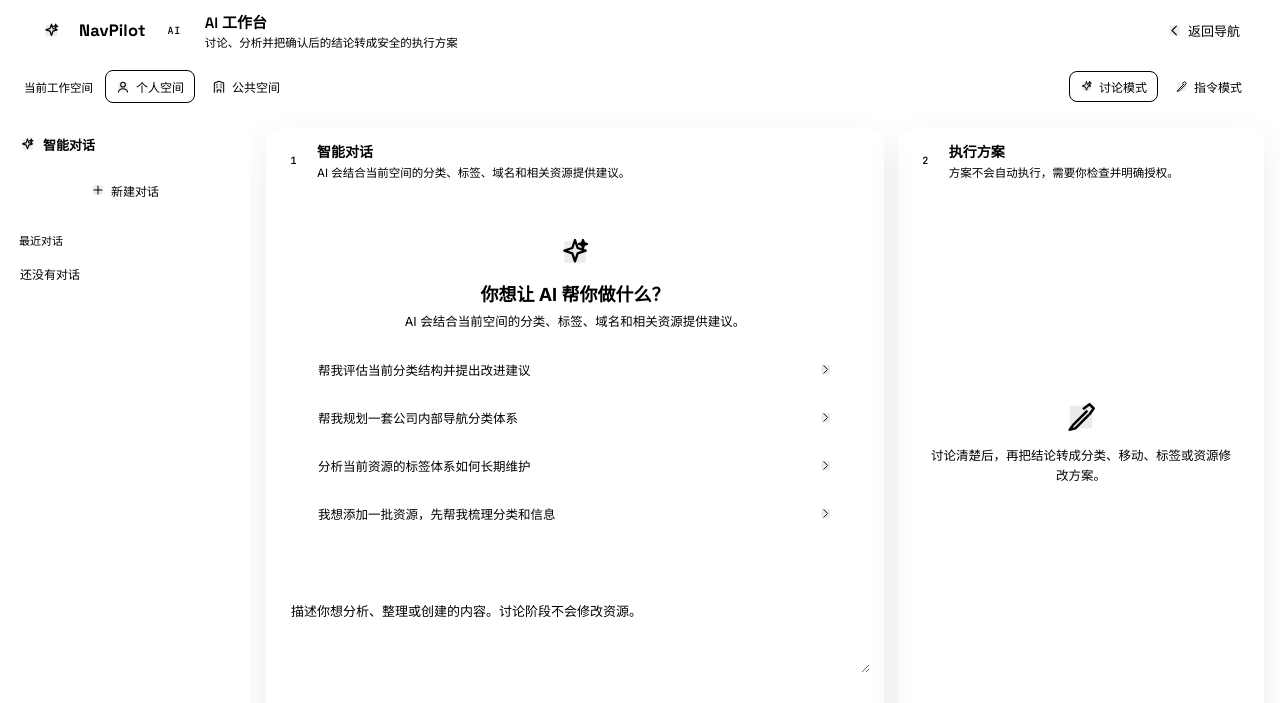
Scenario: AI Workspace › keeps instruction history separate and restores its structured result
This screenshot has width=1280, height=703.
Click the tab "指令模式" at (1208, 86), box 1164,71 -> 1253,102
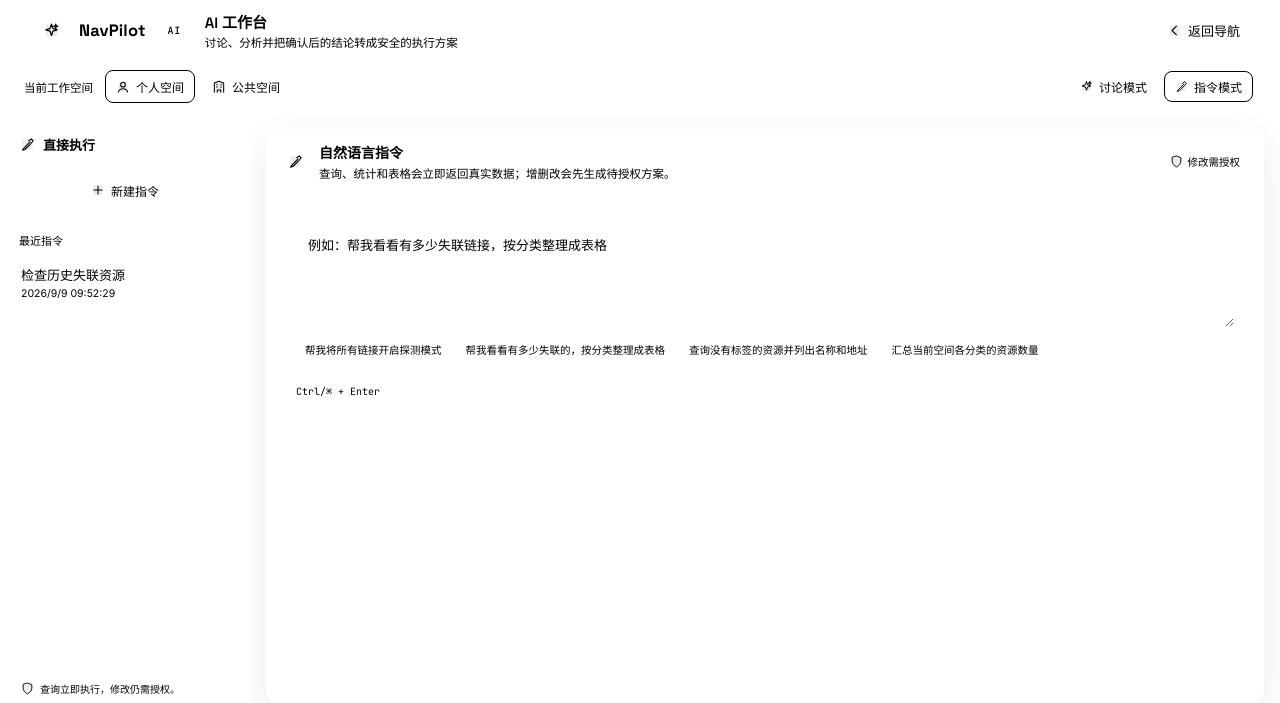
Click the button "检查历史失联资源 2026/9/9 09:52:29" at (125, 283), box 12,257 -> 238,309
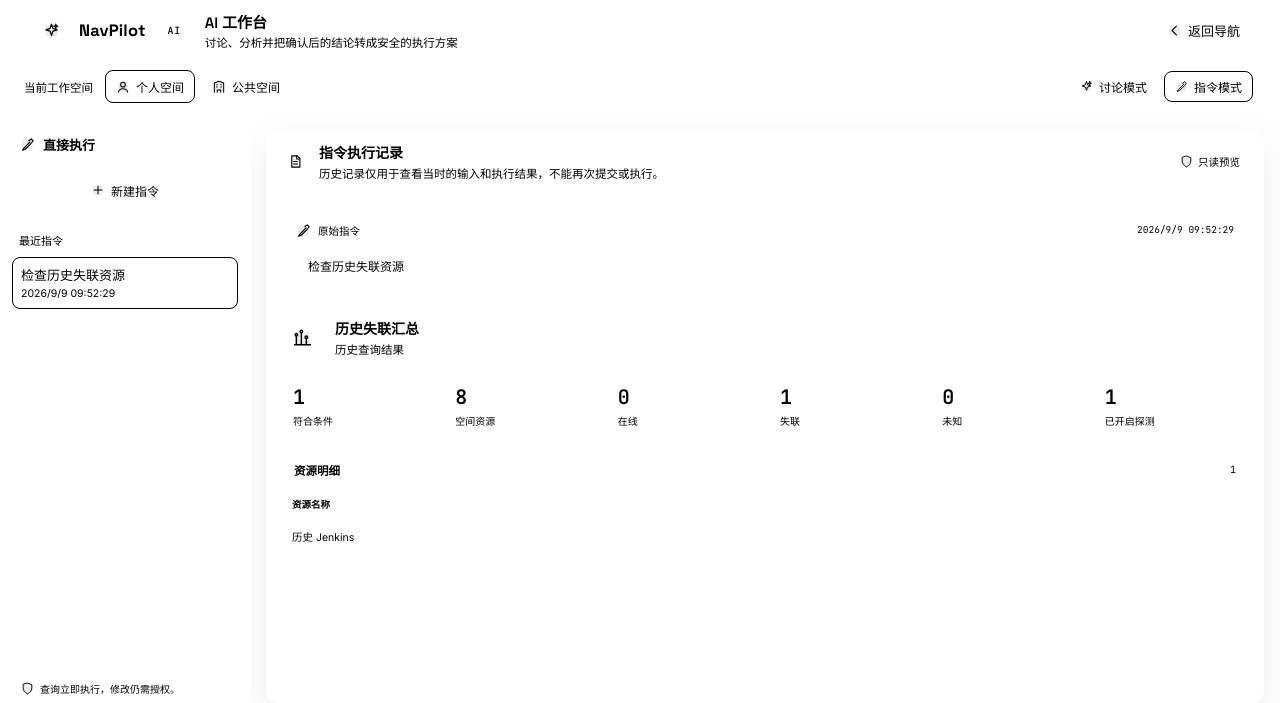
Result: the text "历史 Jenkins" is shown at 282,520 -> 1248,553
Result: the text "指令执行记录" is shown at 319,144 -> 403,160
Result: the text box with placeholder "例如：帮我看看有多少失联链接，按分类整理成表格" is gone
